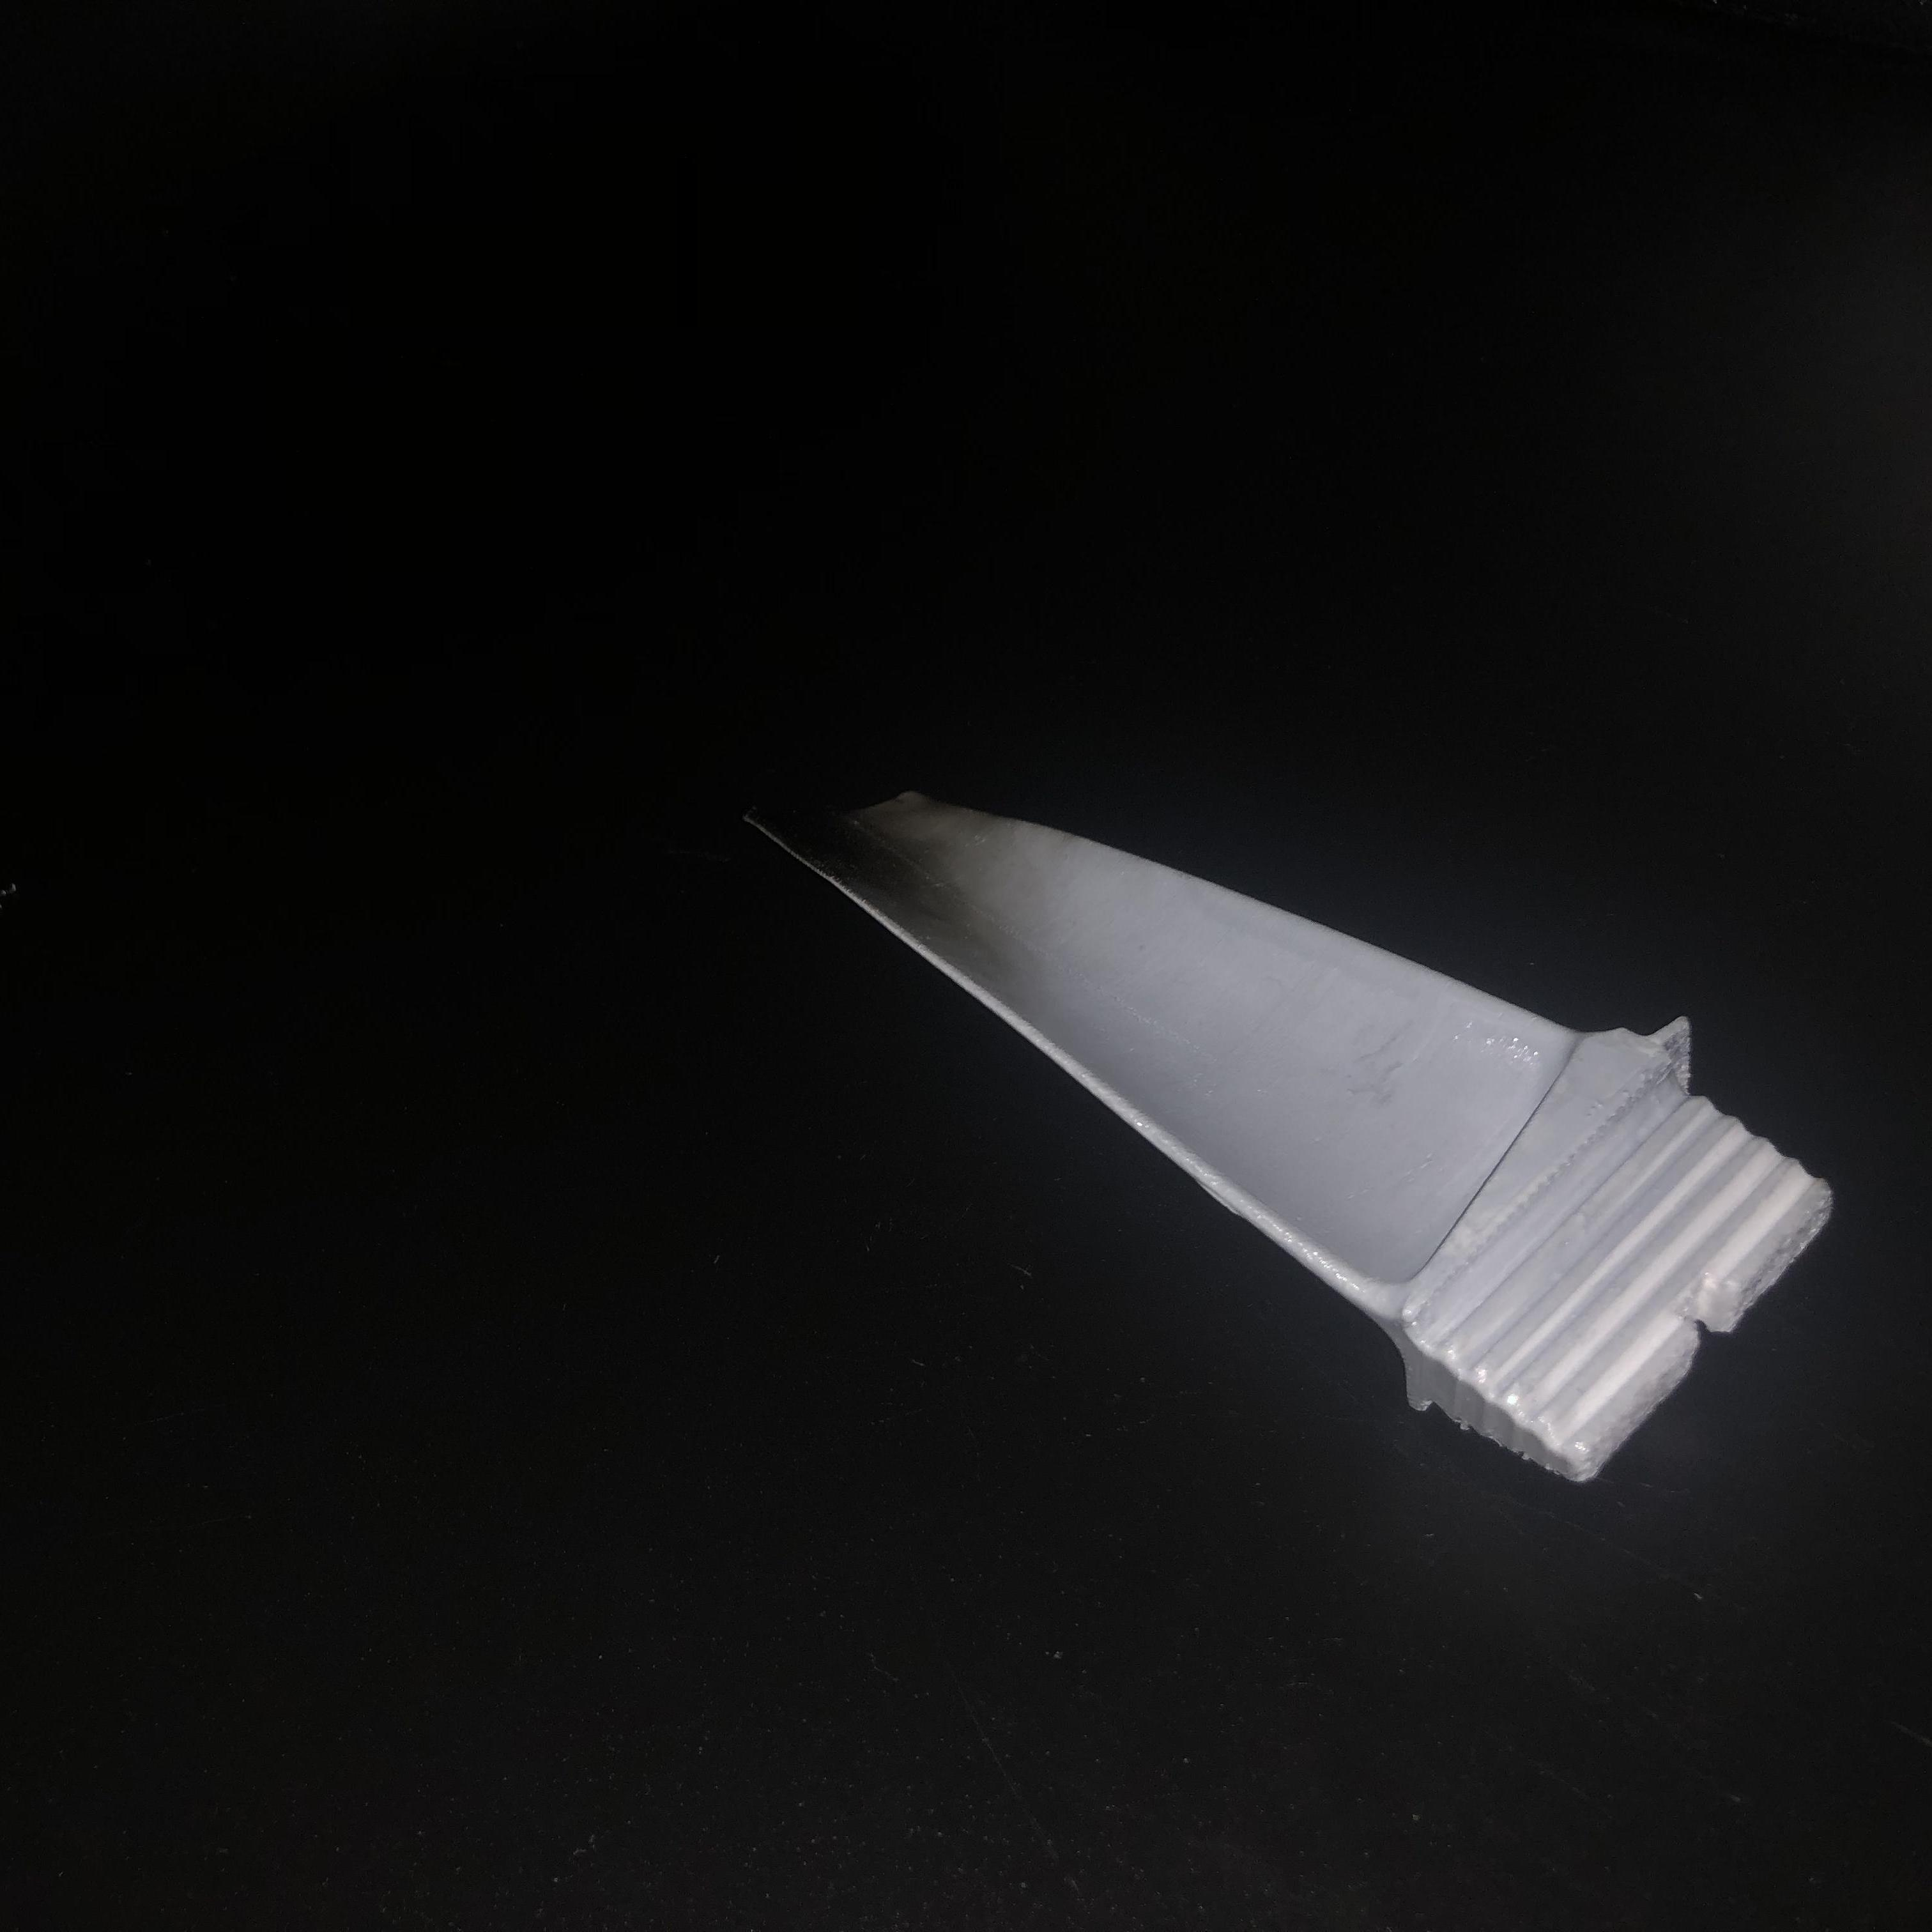ablation: (766, 809, 1063, 934)
